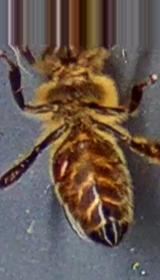varroa_mite: (48, 156, 79, 180)
